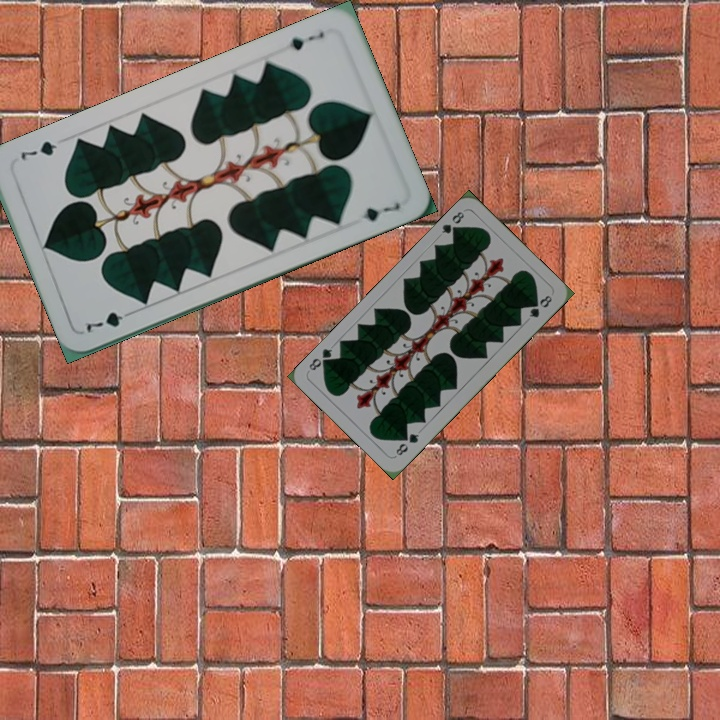G7: (80, 306, 137, 336), (278, 27, 327, 53)
G8: (437, 207, 467, 238), (391, 429, 422, 458)
